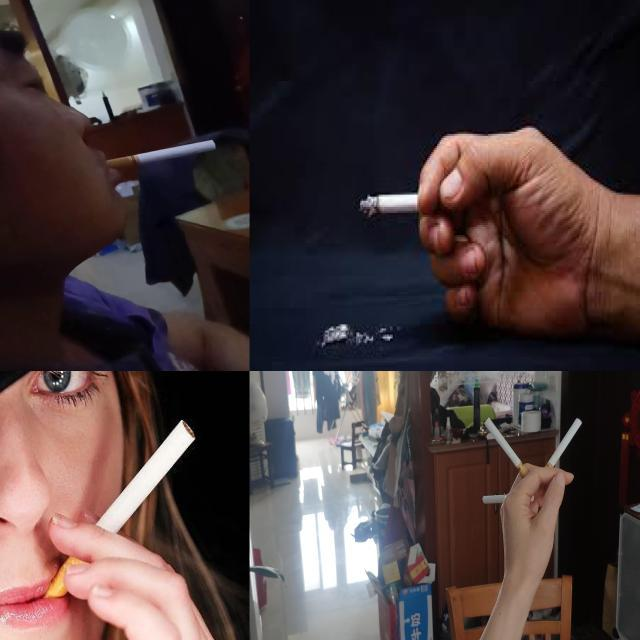smoking: (40, 420, 196, 610), (104, 138, 218, 170), (484, 417, 534, 485), (541, 416, 584, 476), (360, 194, 463, 218), (482, 494, 536, 504)
